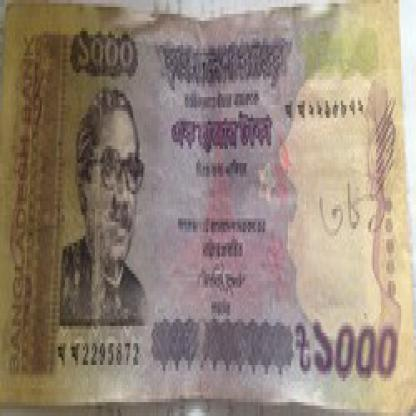One Thousand taka: (291, 315, 401, 382), (74, 31, 142, 80)
